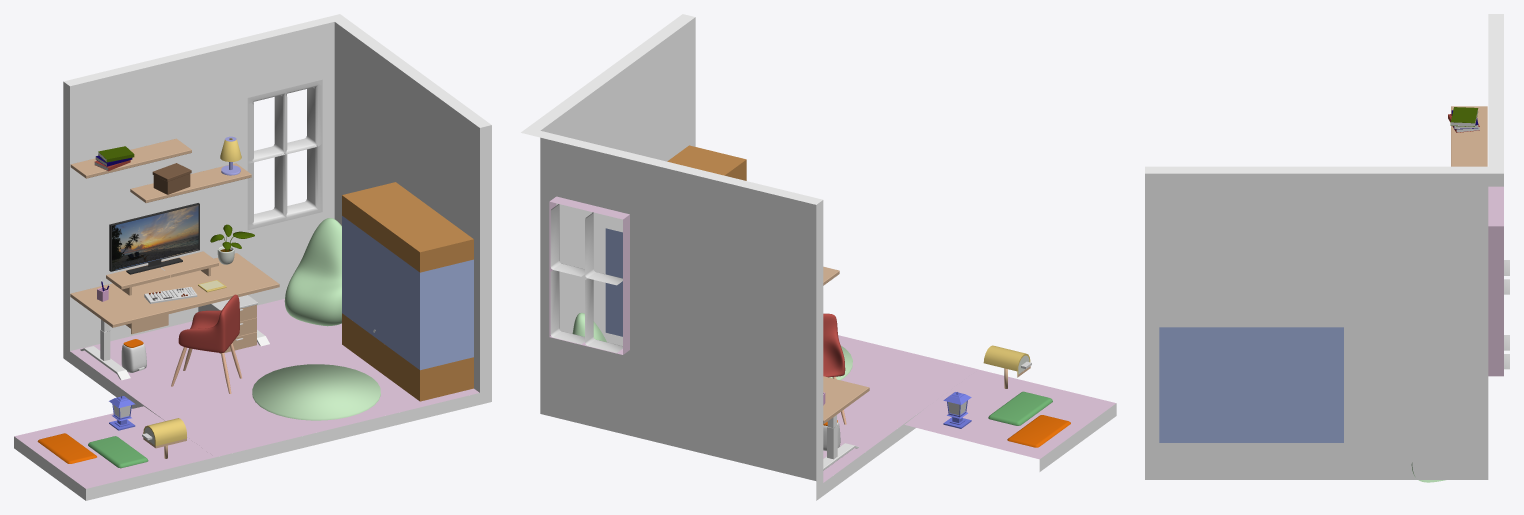
File: room.glb
3 views of the same model, side by side, from view 1: azimuth 30°, elevation 25°; view 2: azimuth 150°, elevation 25°; view 3: azimuth 270°, elevation 25° (orthographic). The views are drawn at different scales.
Parts seen in each view (by area): view 1: Room Cube, Cube.007, Cube.006, Addintion Floor, Window, Carpet, Table Top, Pooph, Monitor Screen PC, Chair, Table Top.002, Shelf 2 (+9 smaller); view 2: Room Cube, Addintion Floor, Window, Cube.007, Cube.006, Plitka, Table Top, Chair, Plitka.001, Mail; view 3: Room Cube, Cube.007, Shelf 2, Book.002.
Boxes of the visible parts, box(x1,y1,x2,y2) form: Room Cube: box(63, 14, 491, 469); Cube.007: box(342, 216, 473, 370); Cube.006: box(342, 182, 473, 401); Addintion Floor: box(14, 406, 214, 500); Window: box(247, 79, 322, 229); Carpet: box(252, 364, 380, 420); Table Top: box(70, 253, 279, 327); Pooph: box(284, 218, 341, 326); Monitor Screen PC: box(112, 205, 198, 270); Chair: box(178, 294, 239, 352); Table Top.002: box(106, 251, 218, 295); Shelf 2: box(70, 138, 191, 178); Room Cube: box(521, 14, 978, 500); Addintion Floor: box(904, 369, 1116, 471); Window: box(550, 204, 622, 352); Cube.007: box(605, 228, 622, 336); Cube.006: box(667, 145, 746, 180); Plitka: box(988, 391, 1052, 425); Table Top: box(823, 376, 869, 423); Chair: box(823, 313, 845, 377); Plitka.001: box(1007, 415, 1070, 447); Mail: box(983, 345, 1030, 377); Room Cube: box(1145, 14, 1503, 479); Cube.007: box(1159, 327, 1343, 442); Shelf 2: box(1451, 106, 1487, 166); Book.002: box(1450, 107, 1478, 126).
Bounding box in the file's own units: 11.78 × 7.68 × 7.76.
60 materials, 1 textured.
